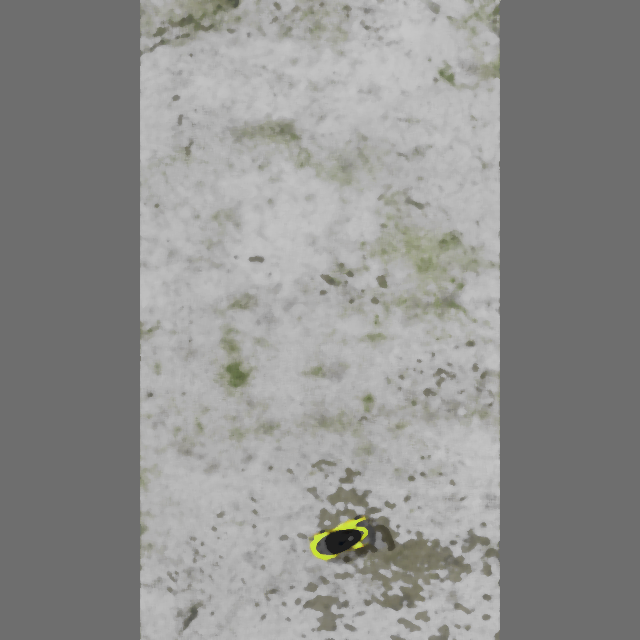car: (304, 511, 378, 569)
